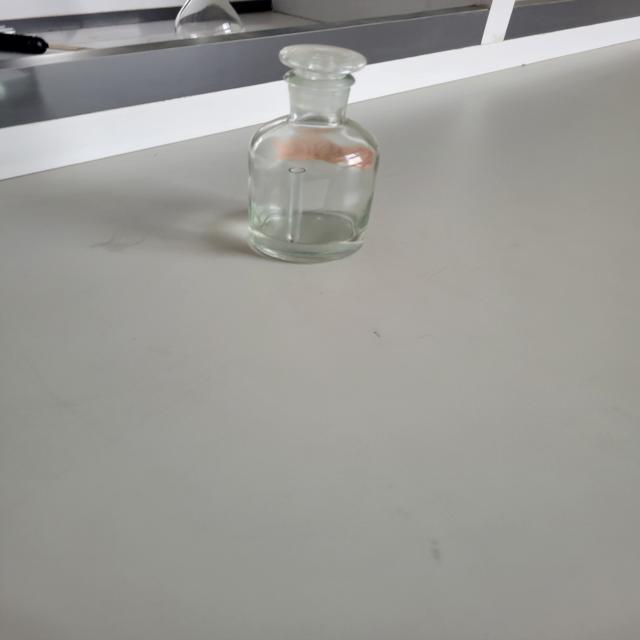Reagent_Bottle: (159, 21, 443, 283)
